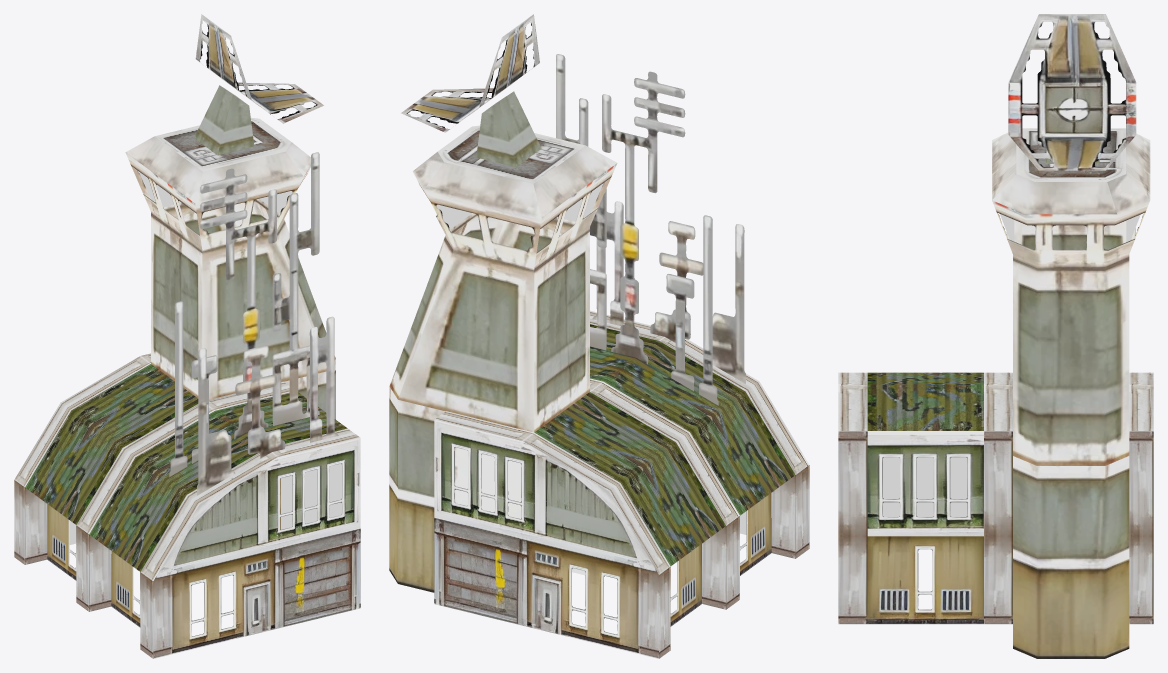
The model's file is l_sensorcontrol_hdtex.glb.
3 views of the same model, side by side, from view 1: azimuth 30°, elevation 25°; view 2: azimuth 150°, elevation 25°; view 3: azimuth 270°, elevation 25° (orthographic). The views are drawn at different scales.
Visible parts, largest first — view 1: L_SensorControl, L_Sdish, L_Dish, Litwin_SensorControl; view 2: L_SensorControl, L_Sdish, L_Dish, Litwin_SensorControl; view 3: L_SensorControl, L_Sdish, Litwin_SensorControl.
Boxes of the visible parts, <box> form: L_SensorControl: <box>14,117,360,658</box>; L_Sdish: <box>195,14,323,123</box>; L_Dish: <box>194,85,254,155</box>; Litwin_SensorControl: <box>69,171,341,544</box>; L_SensorControl: <box>389,54,809,658</box>; L_Sdish: <box>401,14,539,132</box>; L_Dish: <box>476,91,541,167</box>; Litwin_SensorControl: <box>436,183,746,534</box>; L_SensorControl: <box>838,128,1153,658</box>; L_Sdish: <box>1008,14,1136,170</box>; Litwin_SensorControl: <box>883,214,1140,516</box>.
Bounding box in the file's own units: 14.6 × 26.74 × 13.
2 materials, 2 textured.
